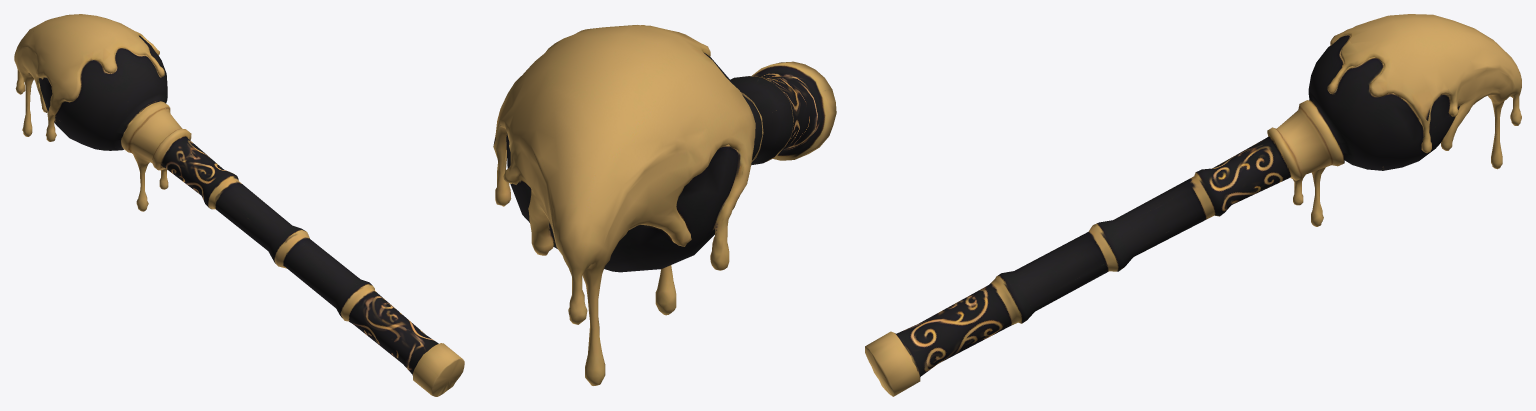
The model's file is summoner_shadowplay_staff_tripo.glb.
3 renders of one model, left to right at view 1: azimuth 30°, elevation 25°; view 2: azimuth 150°, elevation 25°; view 3: azimuth 270°, elevation 25°, orthographic. The views are drawn at different scales.
Visible parts, largest first — view 1: tripo_node_0c581c3e-7dd4-42e1-b809-b947adfabd6c; view 2: tripo_node_0c581c3e-7dd4-42e1-b809-b947adfabd6c; view 3: tripo_node_0c581c3e-7dd4-42e1-b809-b947adfabd6c.
Boxes of the visible parts, <box> form: tripo_node_0c581c3e-7dd4-42e1-b809-b947adfabd6c: <box>14,14,464,396</box>; tripo_node_0c581c3e-7dd4-42e1-b809-b947adfabd6c: <box>493,25,836,385</box>; tripo_node_0c581c3e-7dd4-42e1-b809-b947adfabd6c: <box>865,14,1521,396</box>.
Bounding box in the file's own units: 0.4355 × 0.498 × 0.998.
1 material, 1 textured.
